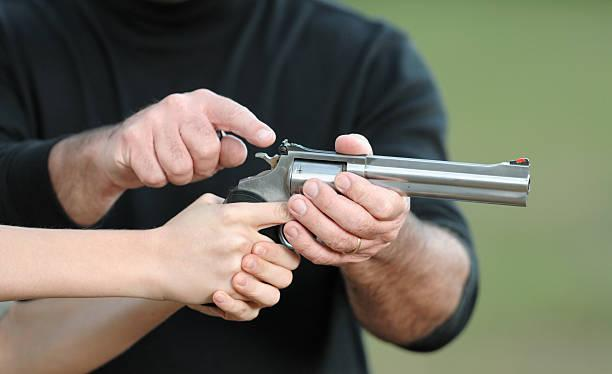weapon: (222, 133, 536, 254)
